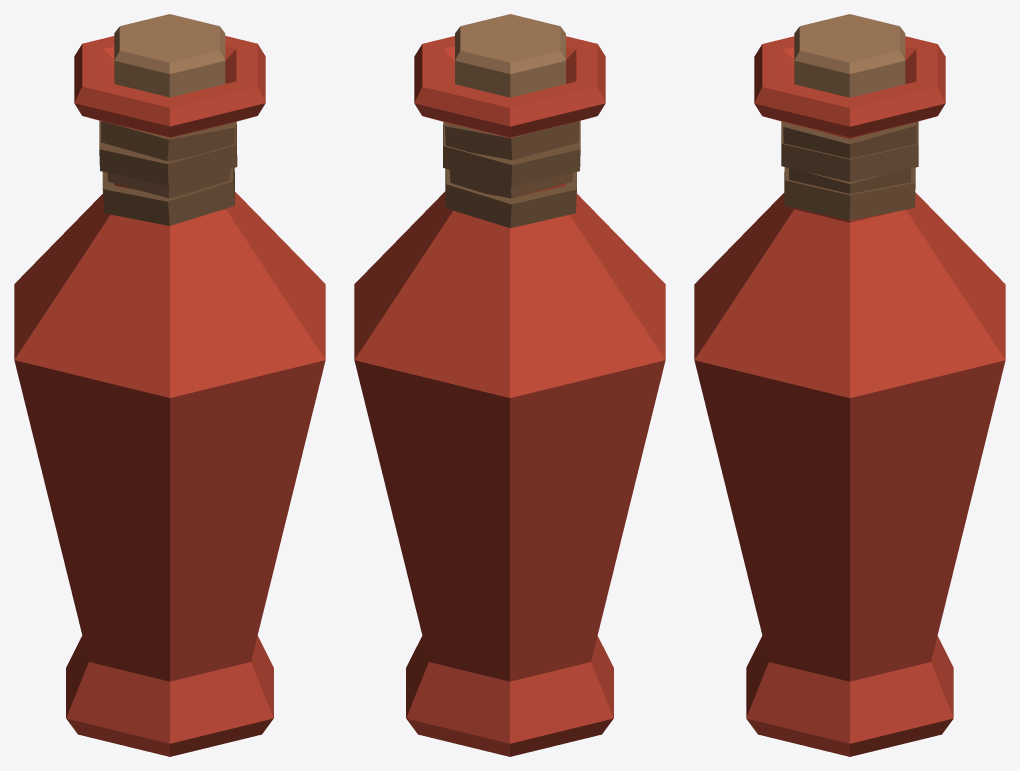
The model's file is Red_Potion_8(String).fbx.
3 views of the same model, side by side, from view 1: azimuth 30°, elevation 25°; view 2: azimuth 150°, elevation 25°; view 3: azimuth 270°, elevation 25° (orthographic).
Visible parts, largest first — view 1: Red_Potion_8(String); view 2: Red_Potion_8(String); view 3: Red_Potion_8(String).
Part boxes in pixels (bbox=[...]): Red_Potion_8(String): bbox=[14, 14, 325, 756]; Red_Potion_8(String): bbox=[354, 14, 665, 756]; Red_Potion_8(String): bbox=[694, 14, 1005, 756].
Size of the model in its own units: 16.45 by 34.03 by 14.25.
